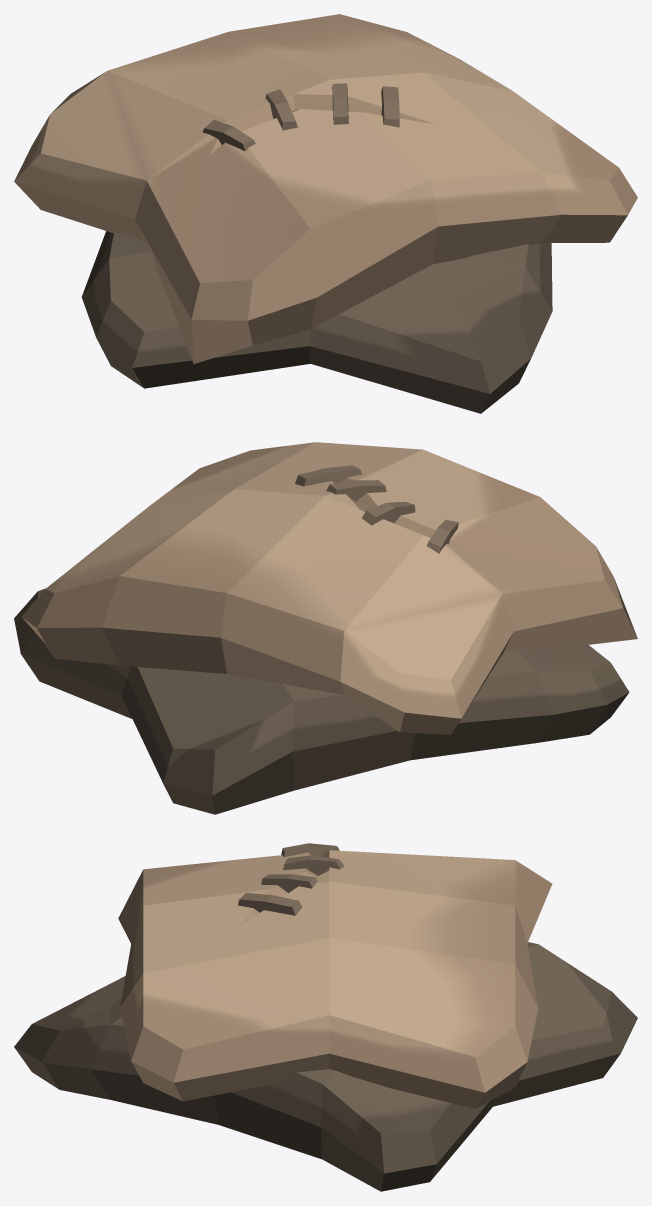
The model's file is bog_sacks.gltf.
3 views of the same model, one above another, from view 1: azimuth 30°, elevation 25°; view 2: azimuth 150°, elevation 25°; view 3: azimuth 270°, elevation 25° (orthographic). The views are drawn at different scales.
Parts seen in each view (by area): view 1: bog_sacks; view 2: bog_sacks; view 3: bog_sacks.
Part boxes in pixels (bbox=[...]): bog_sacks: bbox=[14, 14, 637, 413]; bog_sacks: bbox=[14, 442, 637, 814]; bog_sacks: bbox=[14, 843, 637, 1191].
Size of the model in its own units: 0.9139 by 0.3397 by 0.9705.
Materials: 1 (1 with a texture image).
